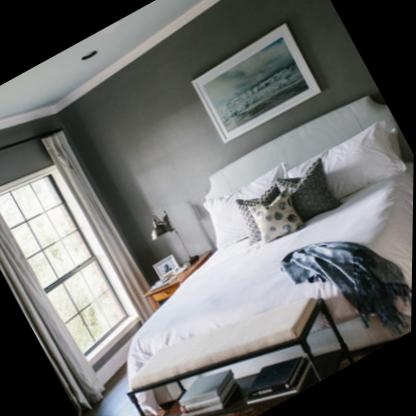Bed: (101, 81, 415, 416)
Curtains: (0, 206, 106, 416), (42, 128, 154, 322)
Frame: (191, 22, 322, 144)
